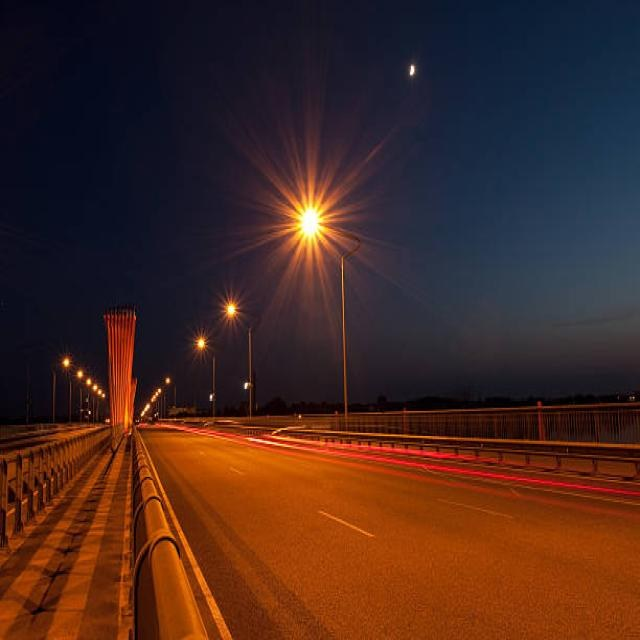acesa: (278, 167, 332, 262), (216, 292, 241, 329)
